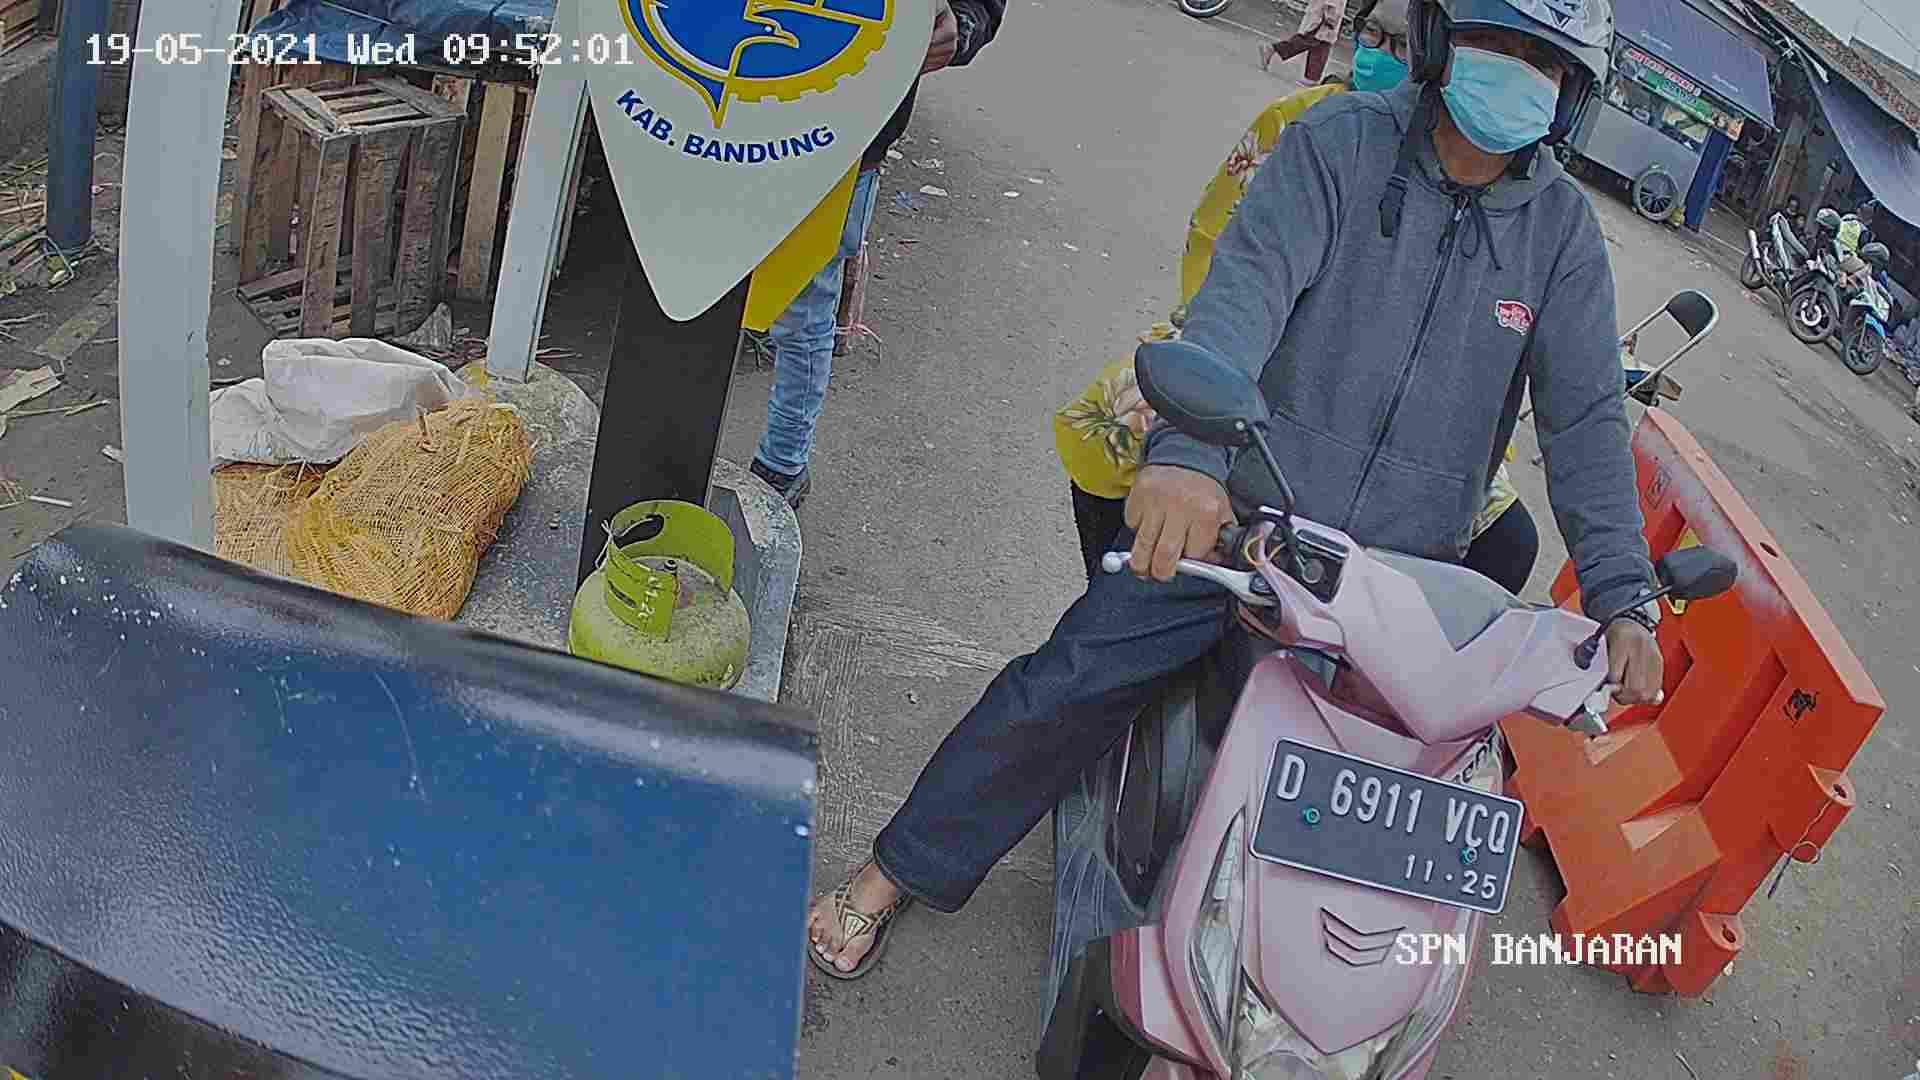motor: (1080, 476, 1551, 1080)
